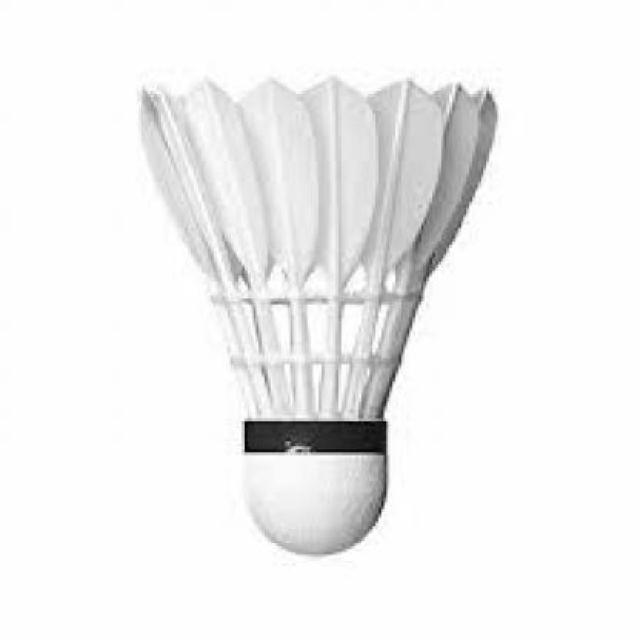Shuttlecock: (129, 68, 502, 560)
